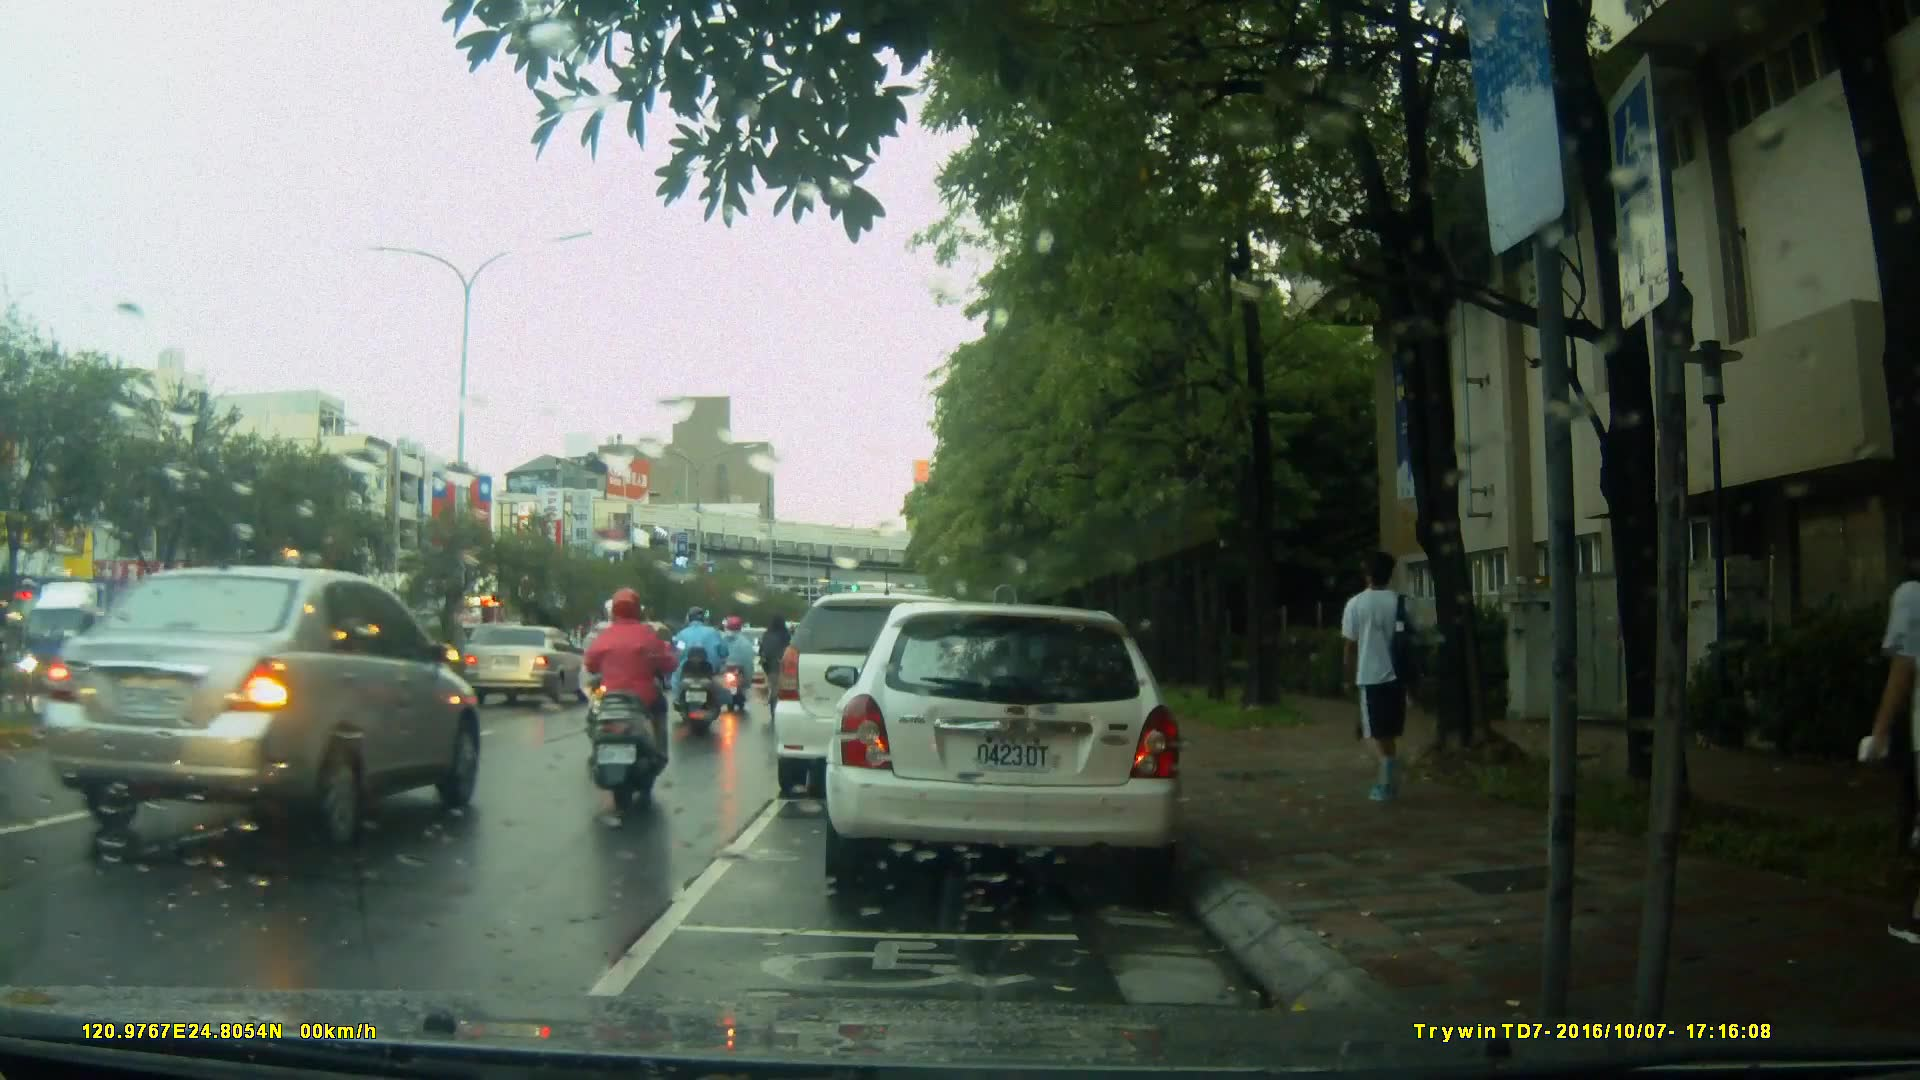pedestrian: (1849, 502, 1920, 940), (1338, 547, 1435, 824)
rider: (572, 589, 666, 815), (586, 602, 644, 766), (669, 607, 731, 741), (717, 612, 761, 714), (762, 610, 798, 729)
vehicle: (25, 564, 481, 855), (822, 604, 1188, 882), (774, 595, 995, 802), (464, 623, 592, 710)
